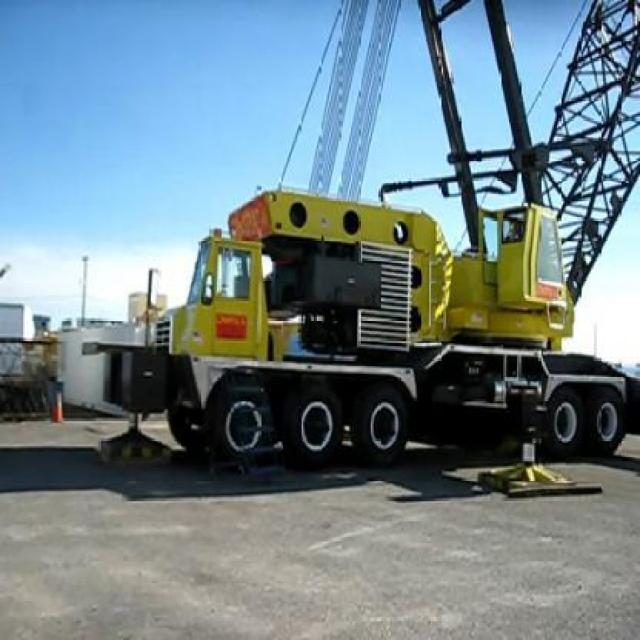Mobile Crane: (101, 0, 638, 465)
